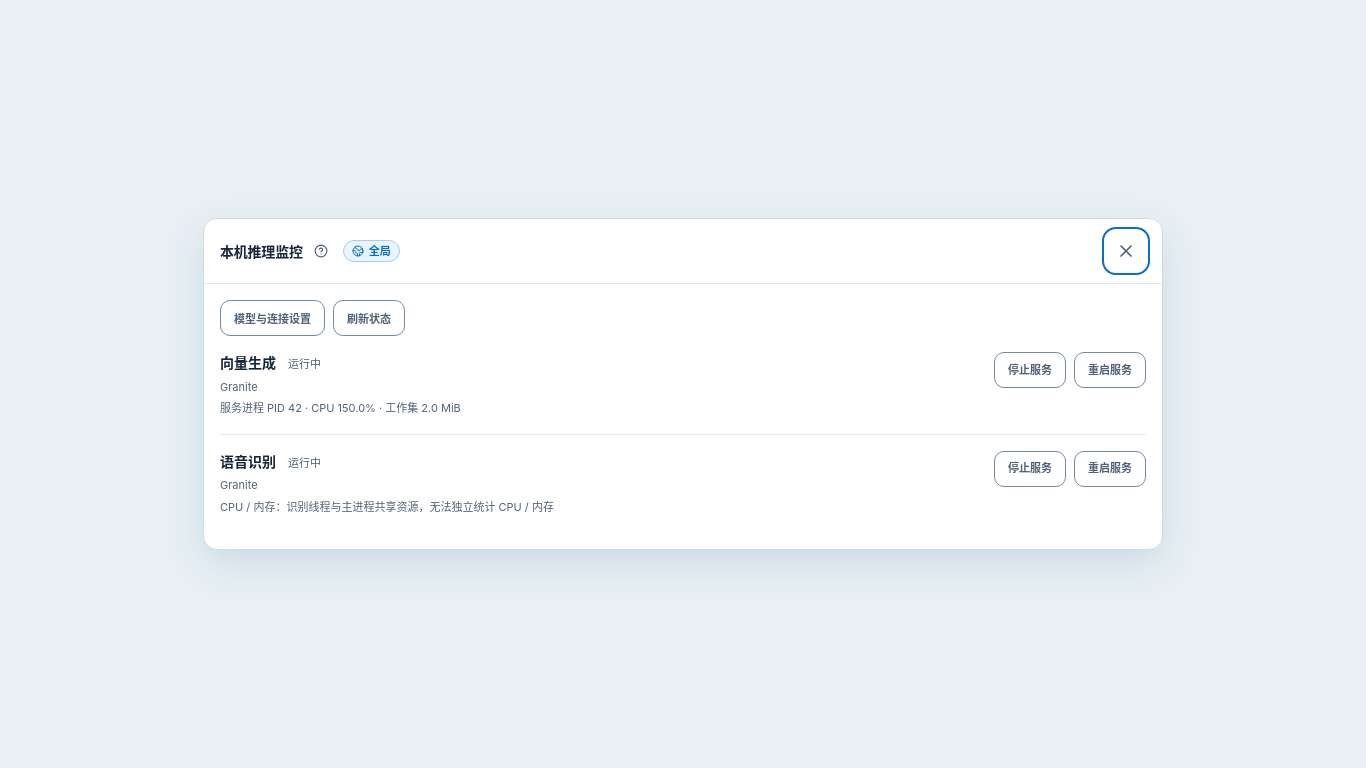
Test: LocalInferencePage › shows process scope, measured units and shared-worker unavailability per service
The image size is (1366, 768).
Check: the text "服务进程 PID 42 · CPU 150.0% · 工作集 2.0 MiB" is shown, box [220,401,461,415]
Check: the text "CPU / 内存：识别线程与主进程共享资源，无法独立统计 CPU / 内存" is shown, box [220,500,554,514]
Click the button "刷新状态" at {"x": 369, "y": 318}, box [333,300,405,336]
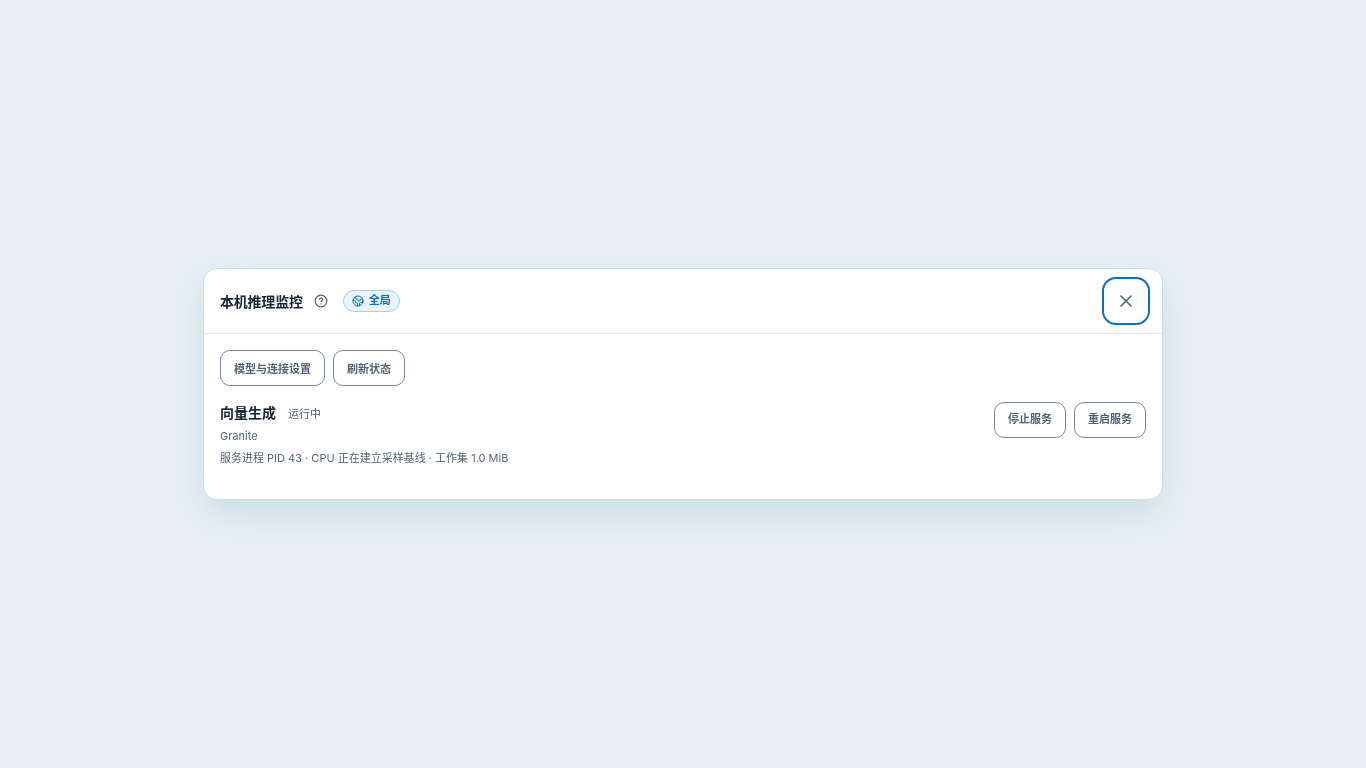
Check: the text "服务进程 PID 43 · CPU 正在建立采样基线 · 工作集 1.0 MiB" is shown, box [220,451,508,465]
Check: the text "PID 42" is gone
